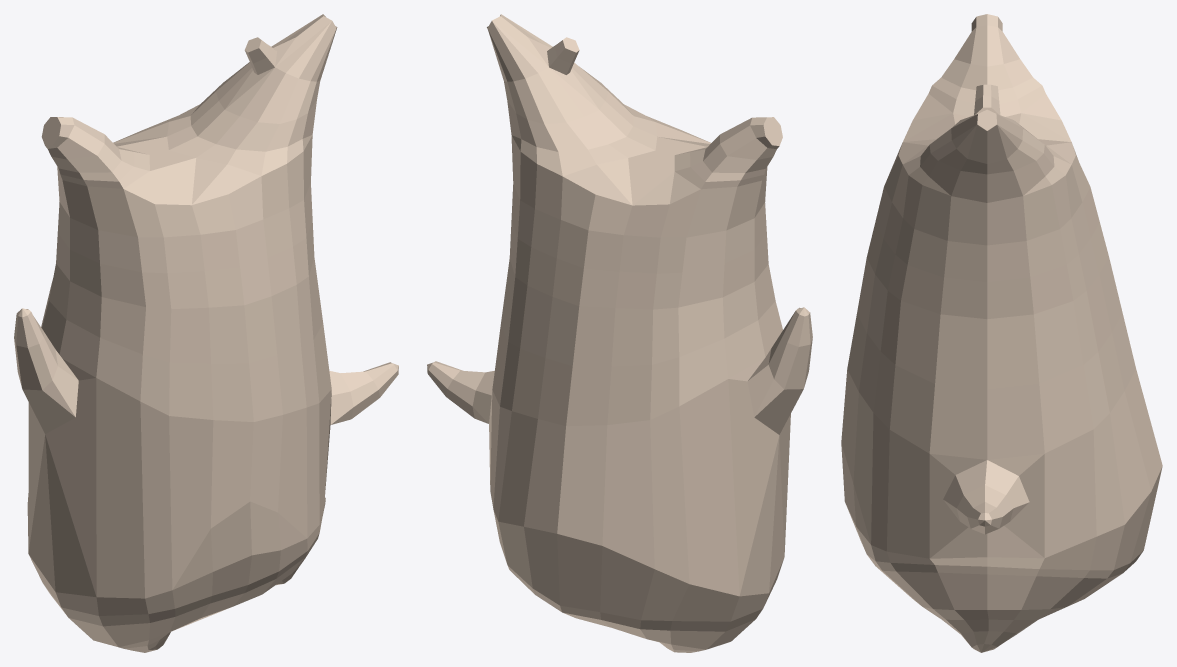
File: frame_0122.obj
The picture shows the model from 3 angles, left to right: view 1: azimuth 30°, elevation 25°; view 2: azimuth 150°, elevation 25°; view 3: azimuth 270°, elevation 25°; orthographic projection.
Parts seen in each view (by area): view 1: korok; view 2: korok; view 3: korok.
Part boxes in pixels (x1,y1,x2,y2): korok: (14,14,398,652); korok: (427,14,812,652); korok: (841,14,1162,652).
Size of the model in its own units: 1.5 by 2.2 by 1.07.
